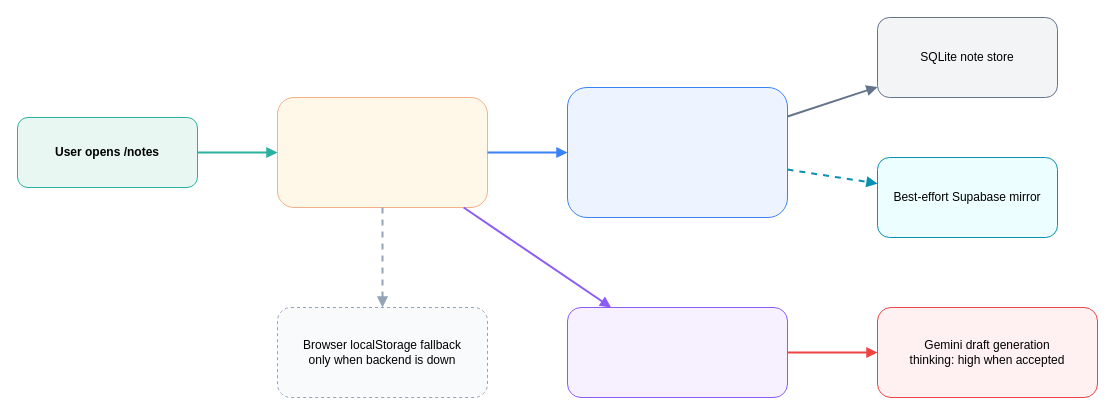
Image size: 1115x415. Some labels were removed from this diagram. The shapes that lost their labels are listed below. From the top down, each one's centre as x and y in pixels, then its label:
point 382,152: NotesPage load pages search edit
point 677,152: GET /api/notes POST /api/notes POST /api/notes/import
point 677,352: POST /api/notes/ai-draft
